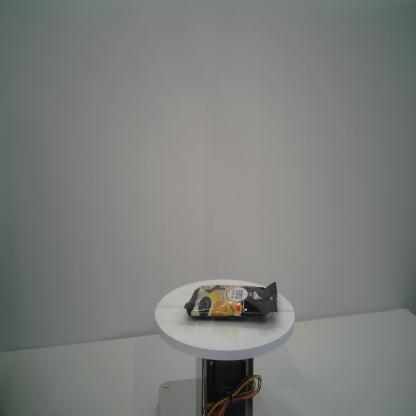Instant Drink: (184, 281, 278, 321)
